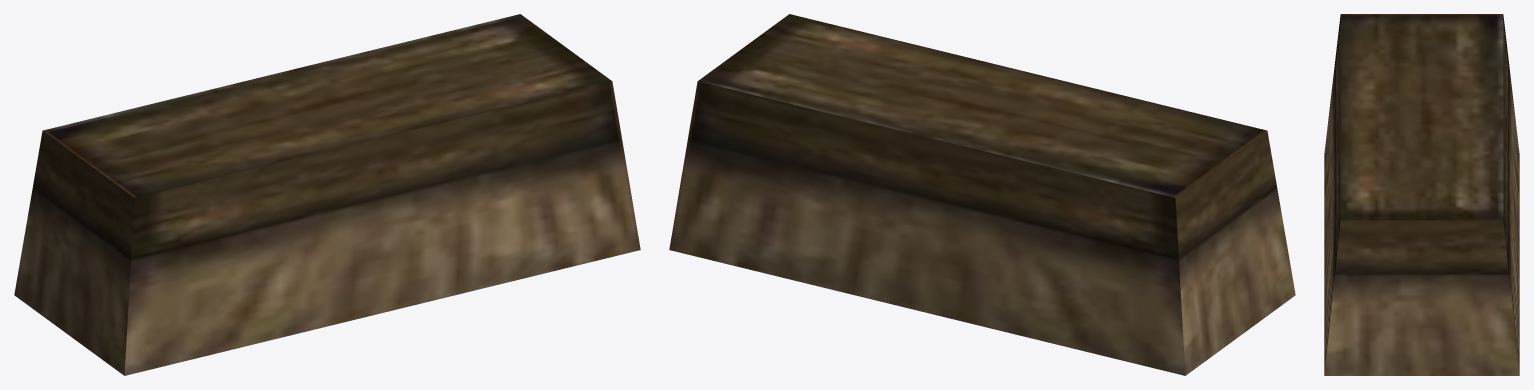
Rendered from ITMI_BRUSH.glb.
3 views of the same model, side by side, from view 1: azimuth 30°, elevation 25°; view 2: azimuth 150°, elevation 25°; view 3: azimuth 270°, elevation 25° (orthographic). The views are drawn at different scales.
Visible parts, largest first — view 1: ITMI_BRUSH; view 2: ITMI_BRUSH; view 3: ITMI_BRUSH.
Boxes of the visible parts, box(x1,y1,x2,y2) form: ITMI_BRUSH: box(14, 14, 640, 375); ITMI_BRUSH: box(669, 14, 1295, 375); ITMI_BRUSH: box(1324, 14, 1519, 375).
Size of the model in its own units: 0.358 by 0.1105 by 0.1325.
1 material, 1 textured.
